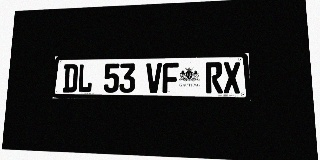3: (119, 63, 135, 93)
5: (104, 63, 120, 93)
D: (62, 64, 78, 92)
F: (162, 63, 178, 93)
L: (77, 64, 93, 93)
R: (205, 62, 223, 93)
V: (146, 63, 162, 93)
X: (223, 62, 241, 93)
